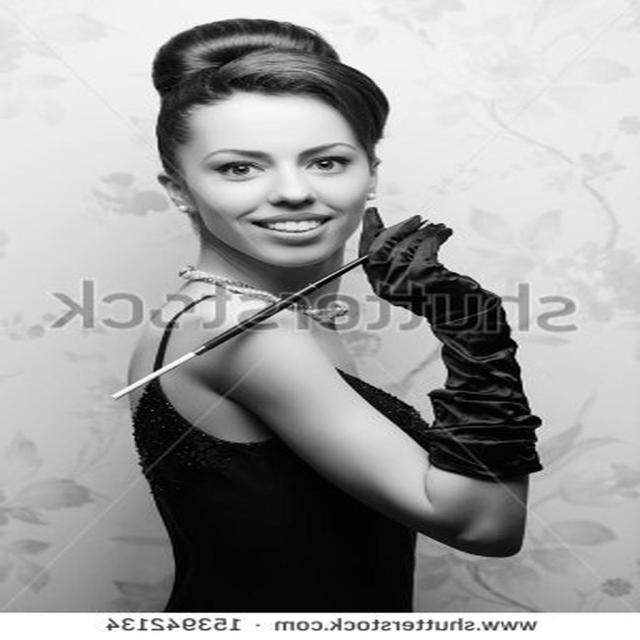smoking: (103, 30, 533, 422)
